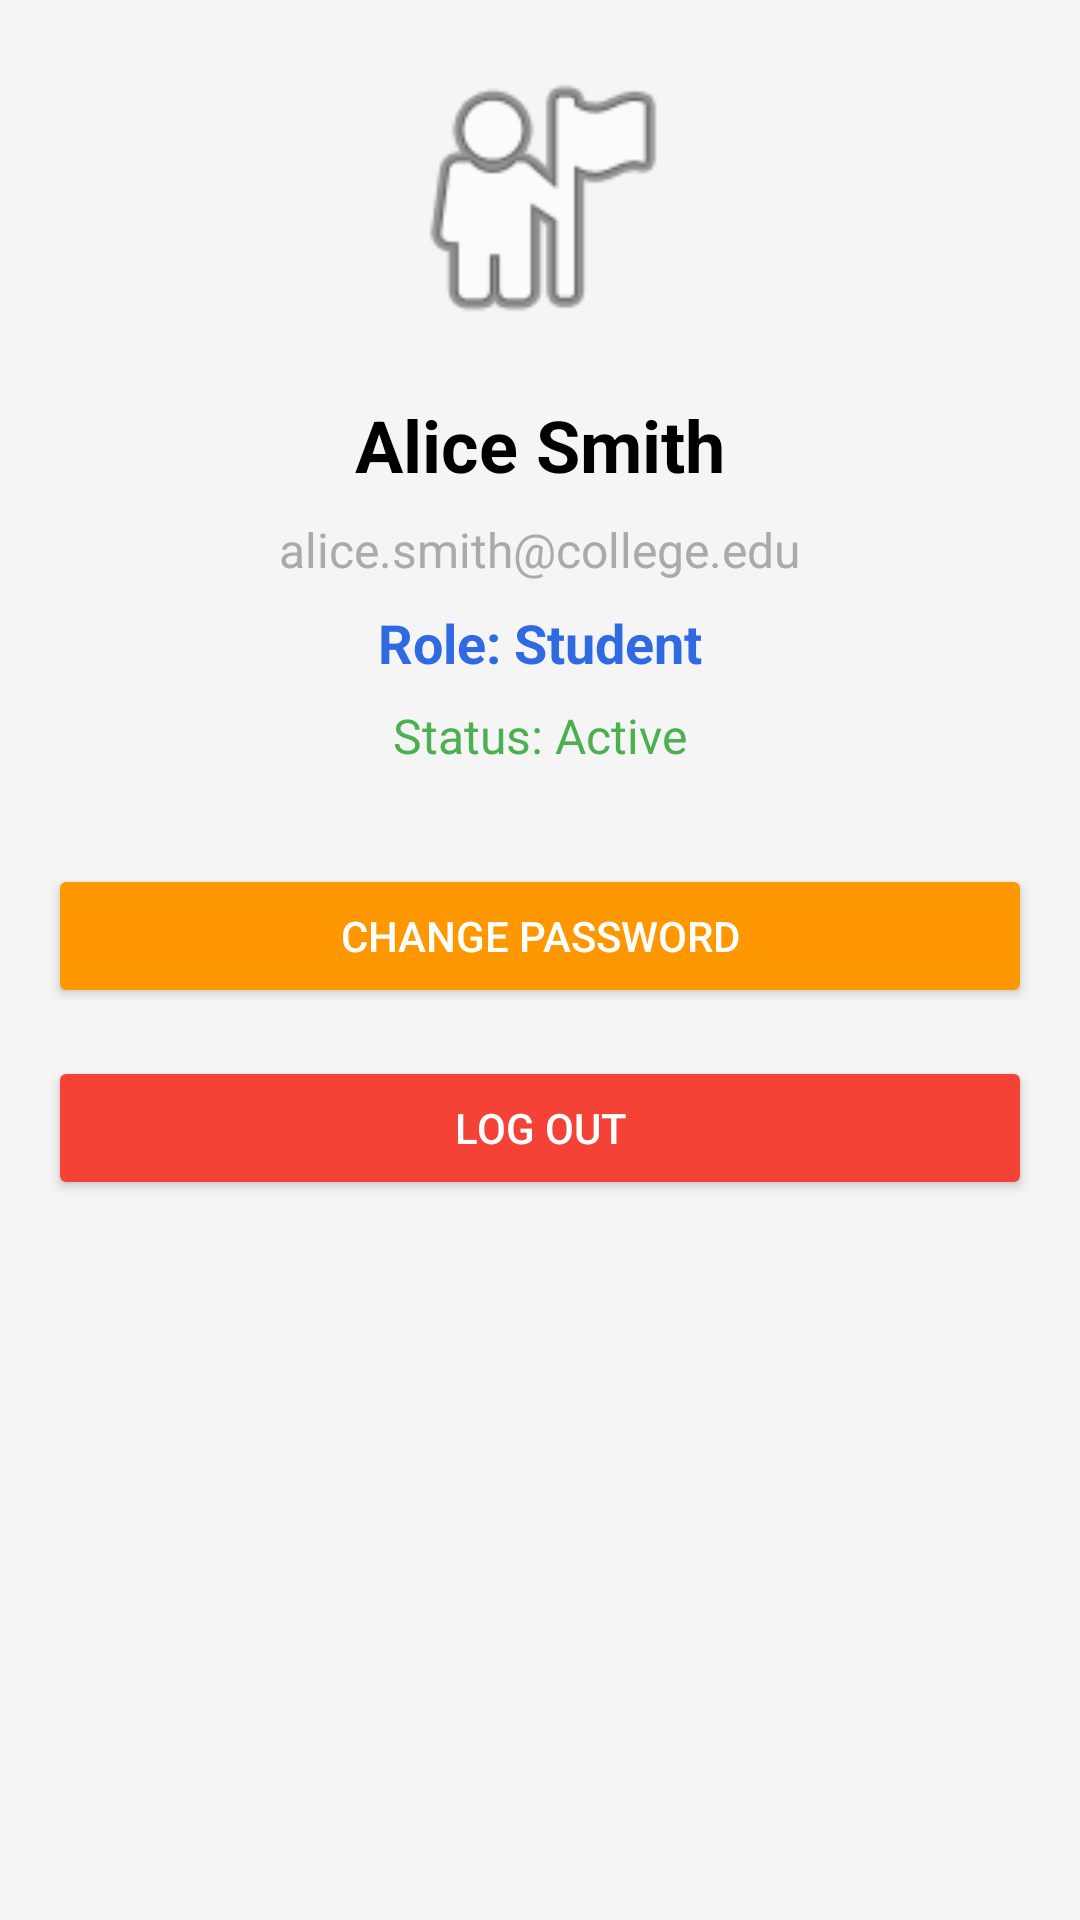

Point at icon controls on the screen. Image size 1080x1920, points as (x,y).
myplaces: (543,198)
